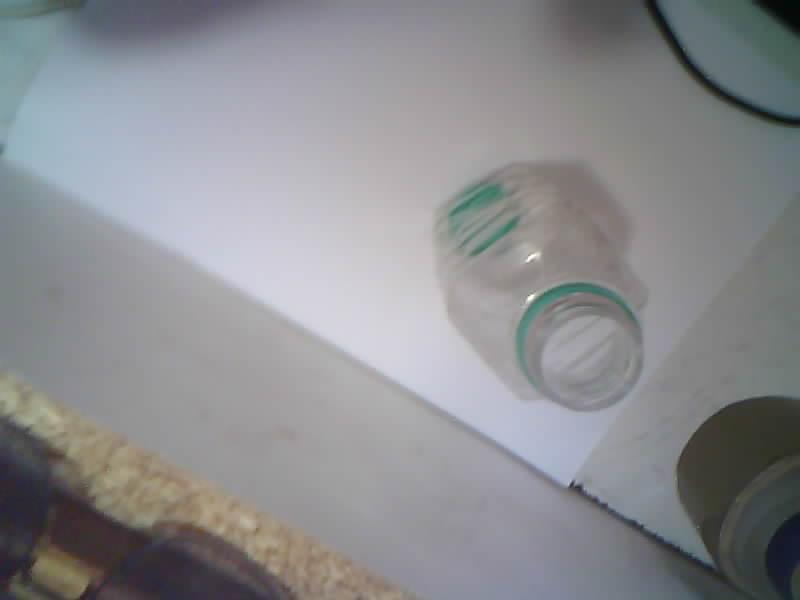non-biodegradable: (436, 165, 646, 411)
